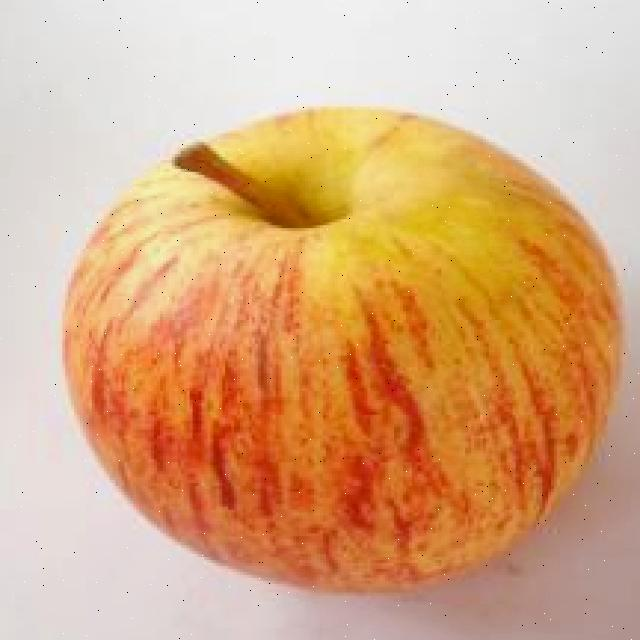apple: (41, 78, 640, 602)
